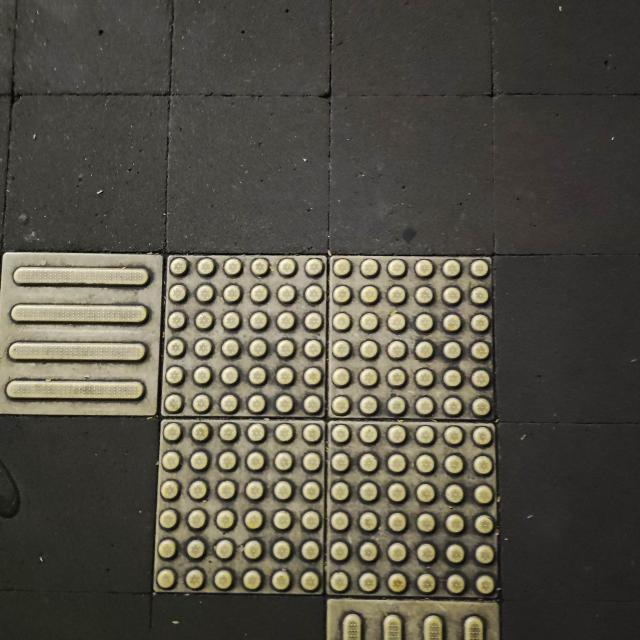kiri: (0, 236, 577, 640)
